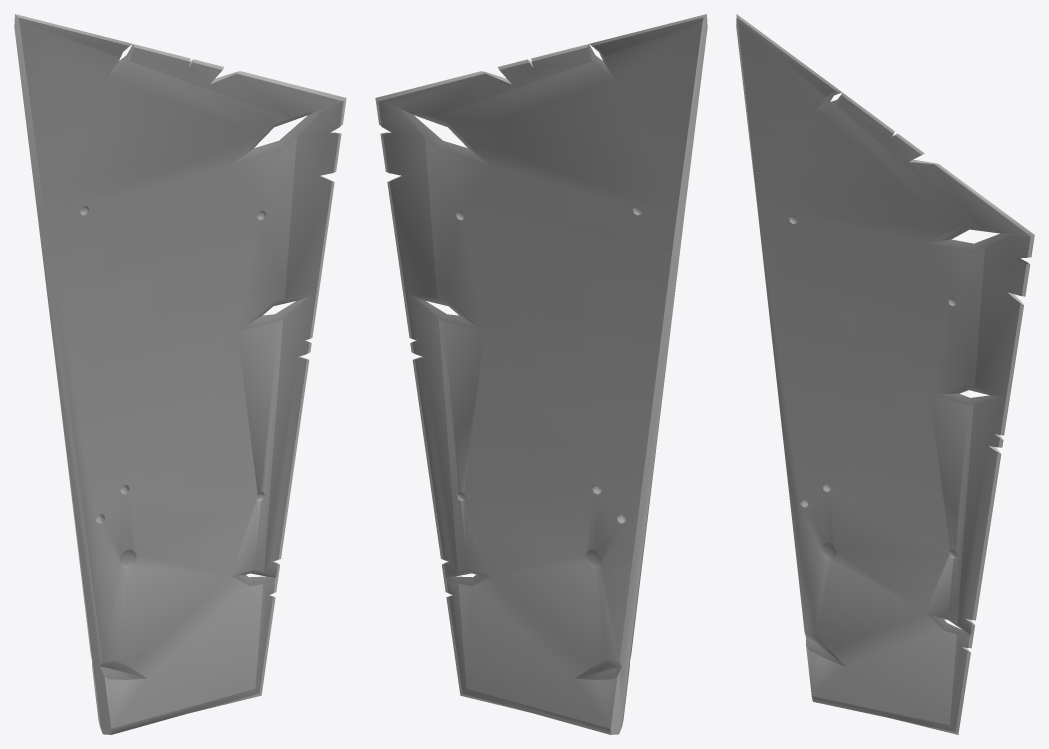
The model's file is stone_blade_bubbles_045.glb.
3 renders of one model, left to right at view 1: azimuth 30°, elevation 25°; view 2: azimuth 150°, elevation 25°; view 3: azimuth 330°, elevation 25°, orthographic. The views are drawn at different scales.
Parts seen in each view (by area): view 1: stone_blade_bubbles.045; view 2: stone_blade_bubbles.045; view 3: stone_blade_bubbles.045.
Part boxes in pixels (x1,y1,x2,y2): stone_blade_bubbles.045: [14, 14, 346, 734]; stone_blade_bubbles.045: [375, 14, 707, 734]; stone_blade_bubbles.045: [736, 14, 1034, 734].
Size of the model in its own units: 5.55 by 11.85 by 0.374.
Materials: 1 (1 with a texture image).
